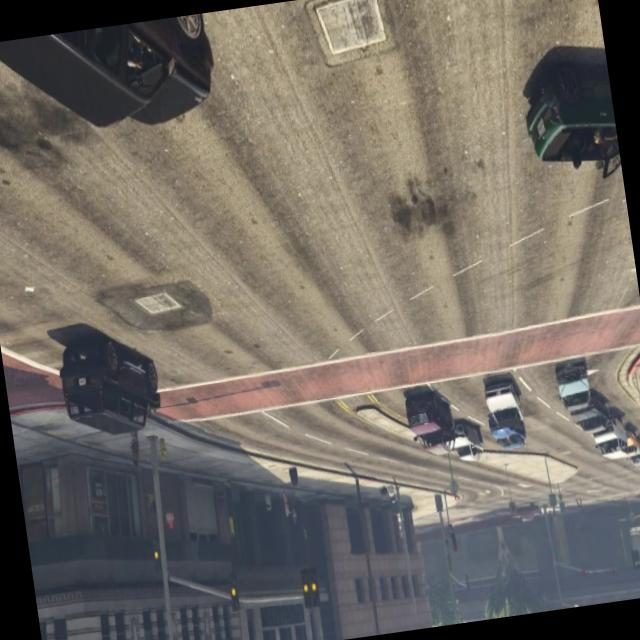Yellow-Signal: (294, 555, 326, 615), (220, 560, 247, 620), (146, 528, 166, 576)
